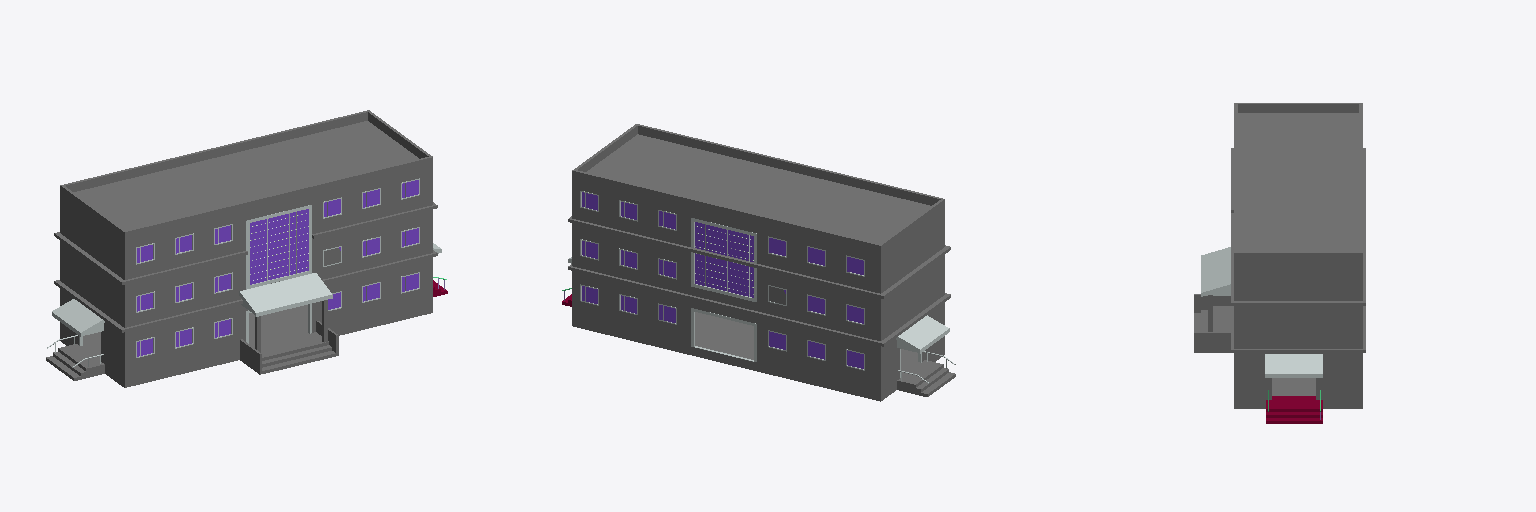
The picture shows the model from 3 angles: view 1: azimuth 30°, elevation 25°; view 2: azimuth 150°, elevation 25°; view 3: azimuth 270°, elevation 25°; orthographic projection.
Visible parts, largest first — view 1: Rectangle07, Rectangle13, Rectangle11, Rectangle09, Rectangle27, Rectangle117, Rectangle01, Rectangle05, Rectangle217, Rectangle10, Rectangle212, Rectangle213 (+2 smaller); view 2: Rectangle117, Rectangle13, Rectangle11, Rectangle09, Rectangle07, Rectangle209, Rectangle217, Rectangle10, Rectangle212, Rectangle213, Rectangle208, Rectangle216 (+1 smaller); view 3: Rectangle13, Rectangle216, Rectangle215, Rectangle217, Rectangle09, Rectangle214, Rectangle01, Rectangle11, Rectangle117, Rectangle07, Rectangle10, Rectangle08 (+1 smaller).
Boxes of the visible parts, box(x1,y1,x2,y2) form: Rectangle07: box(126, 156, 432, 378); Rectangle13: box(74, 121, 418, 229); Rectangle11: box(60, 185, 126, 378); Rectangle09: box(60, 305, 432, 387); Rectangle27: box(250, 209, 308, 284); Rectangle117: box(64, 110, 369, 191); Rectangle01: box(239, 273, 332, 316); Rectangle05: box(252, 332, 335, 373); Rectangle217: box(54, 202, 437, 284); Rectangle10: box(54, 250, 437, 332); Rectangle212: box(46, 342, 104, 380); Rectangle213: box(52, 299, 104, 336); Rectangle117: box(572, 170, 878, 391); Rectangle13: box(587, 134, 930, 243); Rectangle11: box(878, 198, 944, 392); Rectangle09: box(572, 312, 944, 401); Rectangle07: box(638, 124, 941, 205); Rectangle209: box(695, 222, 753, 297); Rectangle217: box(568, 216, 950, 298); Rectangle10: box(568, 264, 950, 346); Rectangle212: box(897, 358, 955, 396); Rectangle213: box(896, 315, 949, 353); Rectangle208: box(691, 218, 756, 301); Rectangle216: box(574, 124, 638, 171); Rectangle13: box(1238, 113, 1358, 251); Rectangle216: box(1235, 252, 1361, 399); Rectangle215: box(1266, 396, 1322, 423); Rectangle217: box(1231, 148, 1365, 305); Rectangle09: box(1234, 378, 1362, 408); Rectangle214: box(1265, 354, 1322, 377); Rectangle01: box(1201, 247, 1230, 296); Rectangle11: box(1234, 103, 1362, 112); Rectangle117: box(1359, 104, 1362, 400); Rectangle07: box(1234, 104, 1237, 399); Rectangle10: box(1231, 213, 1365, 352); Rectangle08: box(1194, 332, 1230, 352).
Size of the model in its own units: 36372 by 14620 by 14611.
Materials: 6 (2 with a texture image).